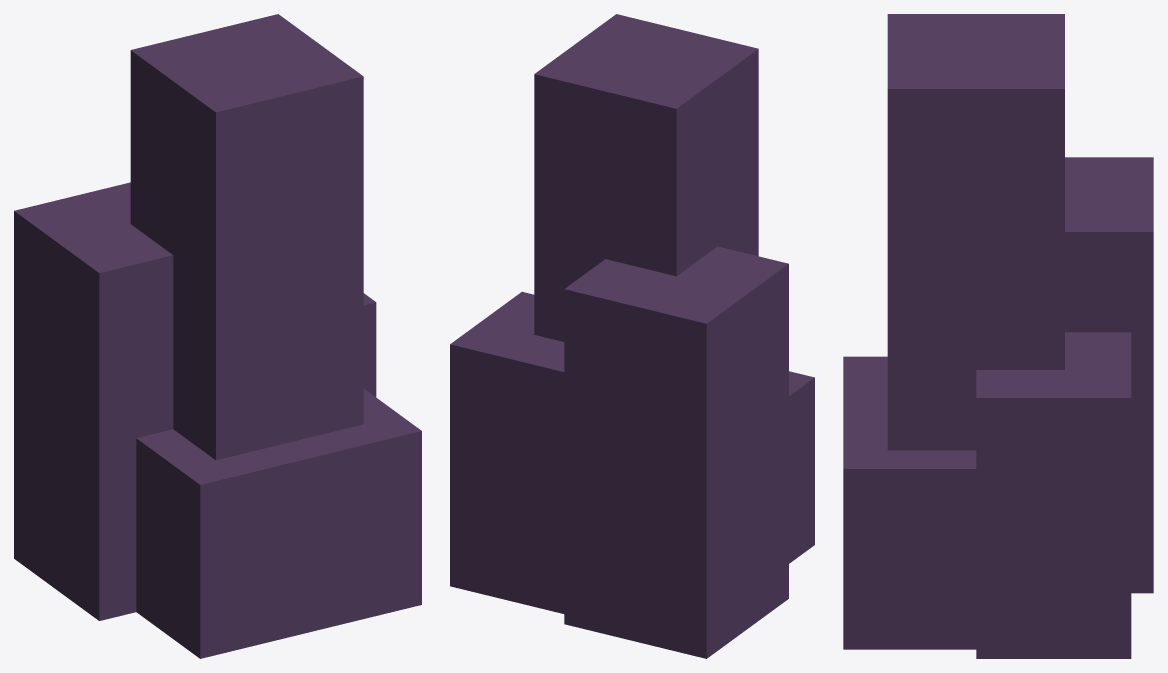
Rendered from Level3Crystal_1.dae.
3 views of the same model, side by side, from view 1: azimuth 30°, elevation 25°; view 2: azimuth 150°, elevation 25°; view 3: azimuth 270°, elevation 25° (orthographic). The views are drawn at different scales.
Visible parts, largest first — view 1: Level3Crystal_1; view 2: Level3Crystal_1; view 3: Level3Crystal_1.
Part boxes in pixels (x1,y1,x2,y2): Level3Crystal_1: [14, 14, 421, 658]; Level3Crystal_1: [450, 14, 814, 658]; Level3Crystal_1: [843, 14, 1153, 658].
Size of the model in its own units: 1.5 by 2.7 by 1.4.
Materials: 1 (1 with a texture image).
